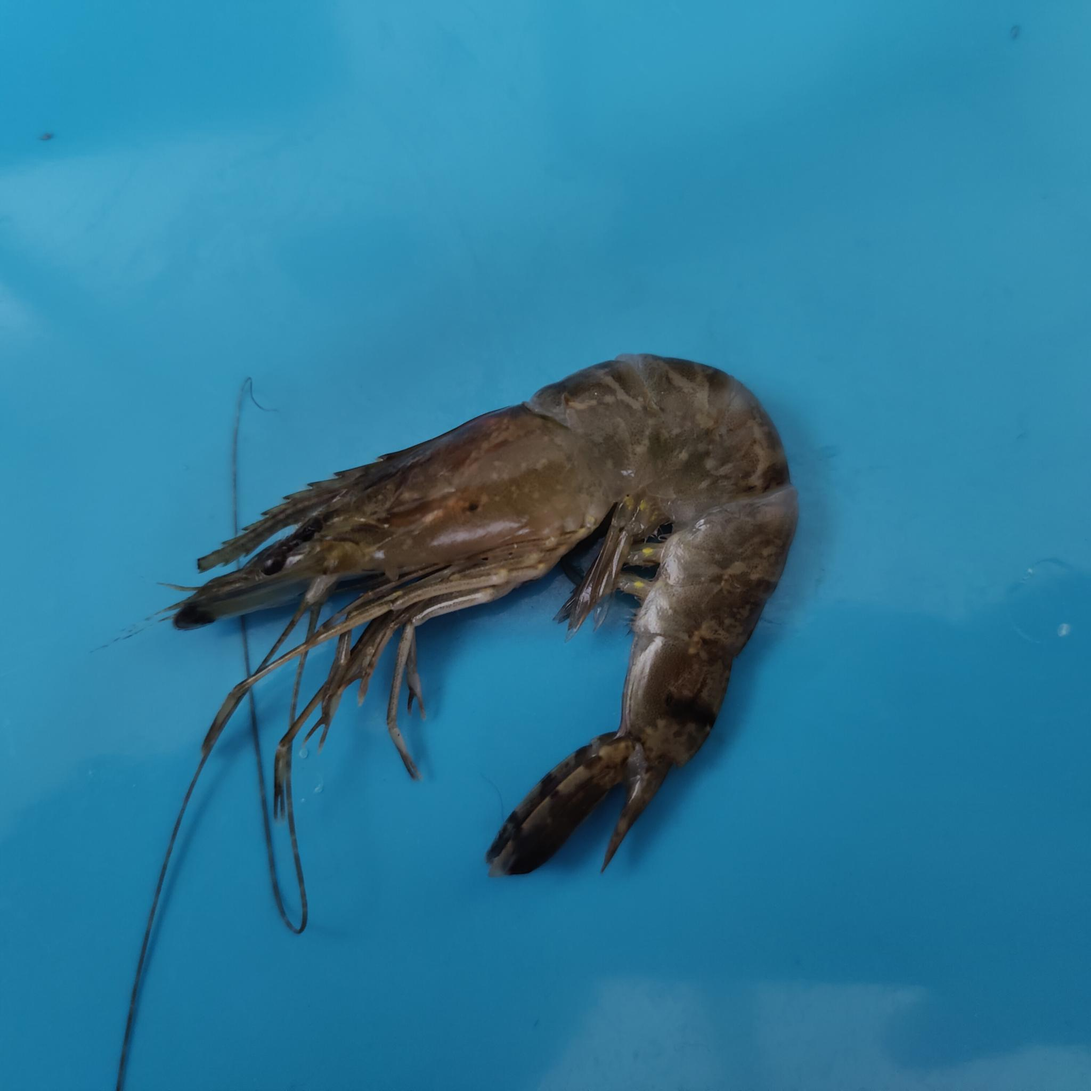whitespot: (361, 410, 614, 521), (564, 364, 748, 503), (680, 591, 758, 665)
